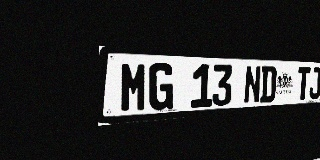1: (191, 64, 213, 108)
3: (212, 64, 233, 106)
D: (260, 66, 277, 103)
G: (148, 62, 174, 111)
J: (309, 67, 320, 99)
M: (120, 61, 148, 113)
N: (243, 65, 261, 104)
T: (296, 67, 310, 100)
